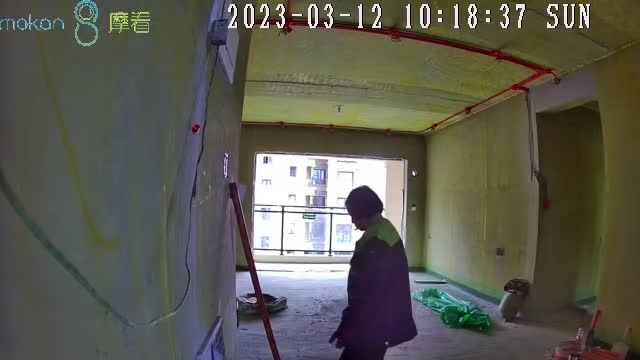people: (334, 185, 417, 360)
window: (254, 152, 405, 253)
